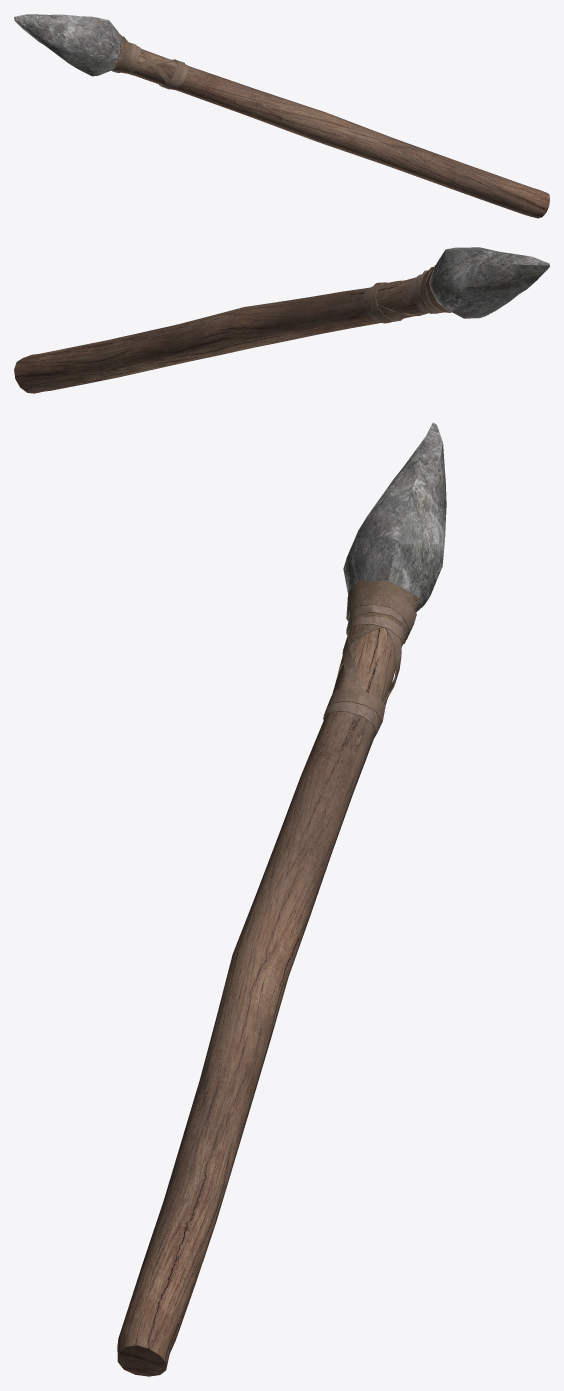
Rendered from spear_level0.glb.
3 views of the same model, one above another, from view 1: azimuth 30°, elevation 25°; view 2: azimuth 150°, elevation 25°; view 3: azimuth 270°, elevation 25° (orthographic). The views are drawn at different scales.
Visible parts, largest first — view 1: spear; view 2: spear; view 3: spear.
Part boxes in pixels (left/top/right/bottom): spear: left=14, top=14, right=549, bottom=218; spear: left=14, top=247, right=549, bottom=393; spear: left=117, top=422, right=446, bottom=1376.
Size of the model in its own units: 1.01 by 0.5389 by 0.312.
Materials: 1 (1 with a texture image).
